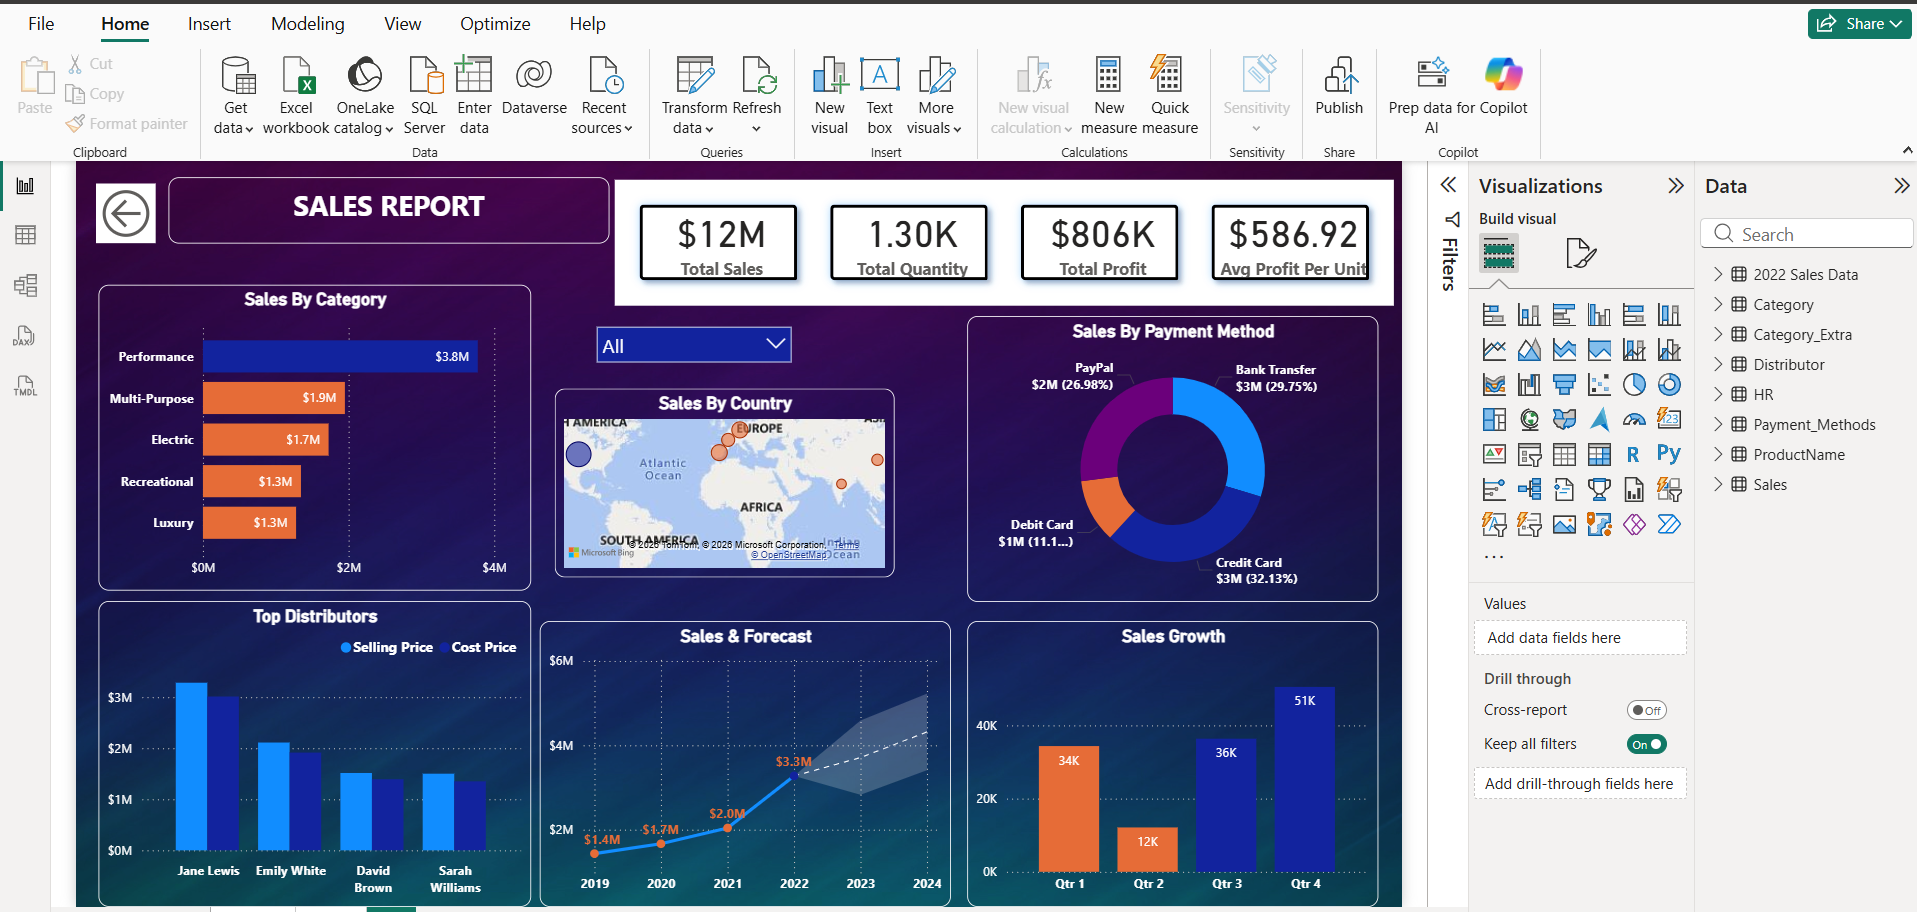

The page's visual inventory and layout, read from the dashboard file:
{"tool":"powerbi","page":{"name":"Sales","canvas":[1280,720],"ordinal":0},"visuals":[{"type":"textbox","box":[89.3,15.7,425.9,63.9],"z":0},{"type":"cardVisual","fields":{"Data":["Sum(Sales.Sales($))","Sum(Sales.QuantitySold )","Sum(Sales.Profit)","Avg(Sales.ProfitPerUnit)"]},"box":[515.2,13.3,764.9,131.5],"z":1000},{"type":"barChart","title":"Sales By Category","fields":{"Y":["Sum(Sales.Sales($))"],"Category":["Category.CategoryType"]},"box":[21.7,119.4,417.4,295.6],"z":2000},{"type":"clusteredColumnChart","title":"Top Distributors","fields":{"Y":["Sum(Sales.Sales($))","Sum(Sales.TotalProductionCost)"],"Category":["Distributor.FullName"]},"box":[21.7,424.7,417.4,295.6],"z":3000},{"type":"clusteredColumnChart","title":"Sales Growth","fields":{"Category":["Sales.Date       .Variation.Date Hierarchy.Year","Sales.Date       .Variation.Date Hierarchy.Quarter","Sales.Date       .Variation.Date Hierarchy.Month","Sales.Date       .Variation.Date Hierarchy.Day"],"Y":["Sum(Sales.Year)"]},"box":[860.2,444,396.9,276.3],"z":4000},{"type":"lineChart","title":"Sales & Forecast","fields":{"Category":["Sales.Date       .Variation.Date Hierarchy.Year","Sales.Date       .Variation.Date Hierarchy.Quarter","Sales.Date       .Variation.Date Hierarchy.Month","Sales.Date       .Variation.Date Hierarchy.Day"],"Y":["Sum(Sales.Sales($))"]},"box":[447.6,444,396.9,276.3],"z":5000},{"type":"map","title":"Sales By Country","fields":{"Category":["Distributor.Country"],"Size":["Sum(Sales.Sales($))"]},"box":[462.1,219.6,328.2,182.2],"z":6000},{"type":"donutChart","title":"Sales By Payment Method","fields":{"Y":["Sum(Sales.Sales($))"],"Series":["Sales.Payment_Methods. PaymentMethod "]},"box":[860.2,149.6,396.9,276.3],"z":7000},{"type":"slicer","fields":{"Values":["Sales.Date       .Variation.Date Hierarchy.Year"]},"box":[492.2,149.6,208.7,70],"z":8000},{"type":"actionButton","box":[19.3,21.7,57.9,57.9],"z":9000}]}

Visuals, with their boxes on the page's 1280x720 design canvas (x1, y1, x2, y2). These are canvas units, not pixel positions in the 1917x912 screenshot, which may show the page scaled, cropped or inside an application window:
textbox: <box>89,16,515,80</box>
cardVisual - Sum(Sales.Sales($)) x Sum(Sales.QuantitySold ): <box>515,13,1280,145</box>
"Sales By Category" barChart: <box>22,119,439,415</box>
"Top Distributors" clusteredColumnChart: <box>22,425,439,720</box>
"Sales Growth" clusteredColumnChart: <box>860,444,1257,720</box>
"Sales & Forecast" lineChart: <box>448,444,844,720</box>
"Sales By Country" map: <box>462,220,790,402</box>
"Sales By Payment Method" donutChart: <box>860,150,1257,426</box>
slicer - Sales.Date       .Variation.Date Hierarchy.Year: <box>492,150,701,220</box>
actionButton: <box>19,22,77,80</box>
